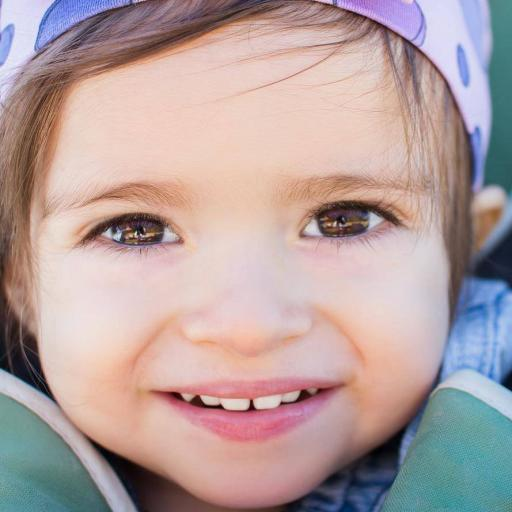Autism: (6, 9, 500, 481)
